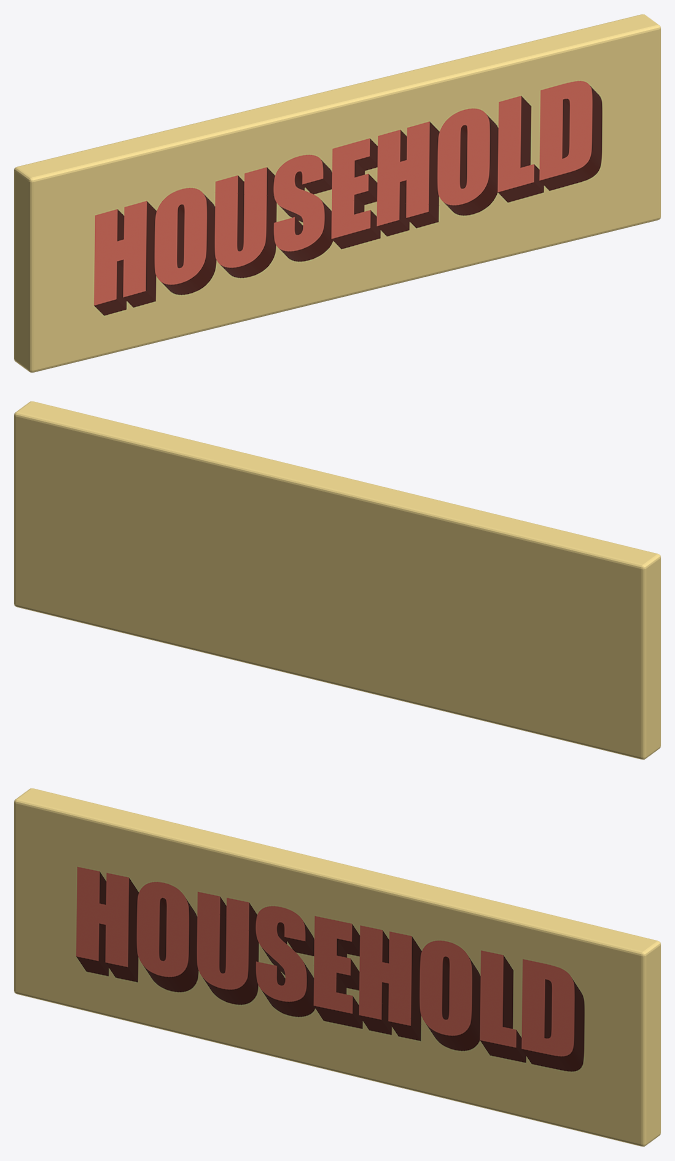
Rendered from household.fbx.
3 renders of one model, top to bottom at view 1: azimuth 30°, elevation 25°; view 2: azimuth 150°, elevation 25°; view 3: azimuth 330°, elevation 25°, orthographic.
Parts seen in each view (by area): view 1: household; view 2: household; view 3: household.
Part boxes in pixels (left/top/right/bottom): household: left=14, top=14, right=660, bottom=372; household: left=14, top=401, right=660, bottom=759; household: left=14, top=788, right=660, bottom=1146.
Size of the model in its own units: 102 by 30.2 by 5.
Materials: 1 (1 with a texture image).
